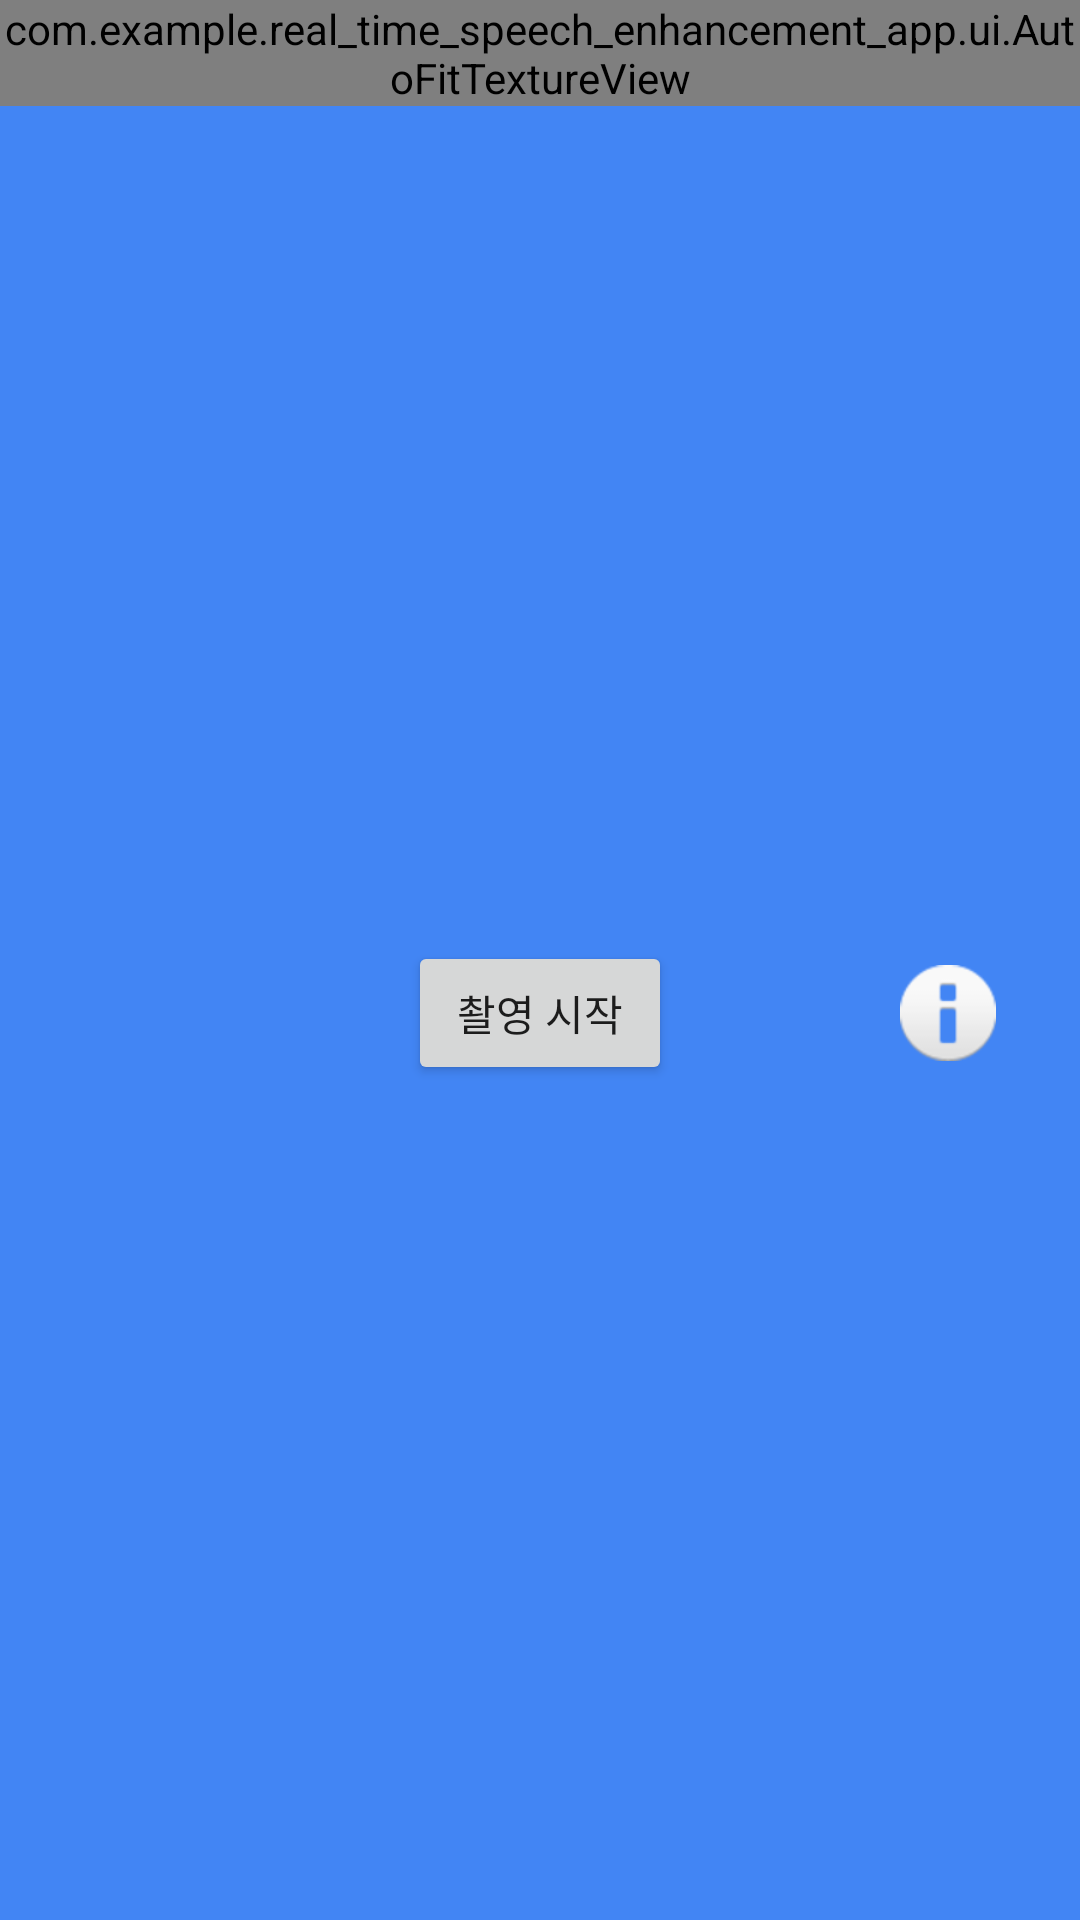

Icons on this 1080*1920 Android screen, each with its box as {"x1": x1, "y1": y1, "x2": x2, "y2": y2}:
Info: {"x1": 900, "y1": 965, "x2": 996, "y2": 1061}
